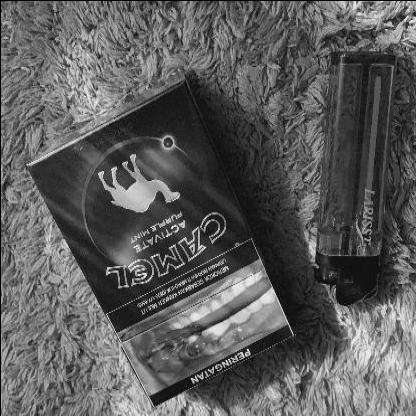objects: (26, 71, 292, 406)
